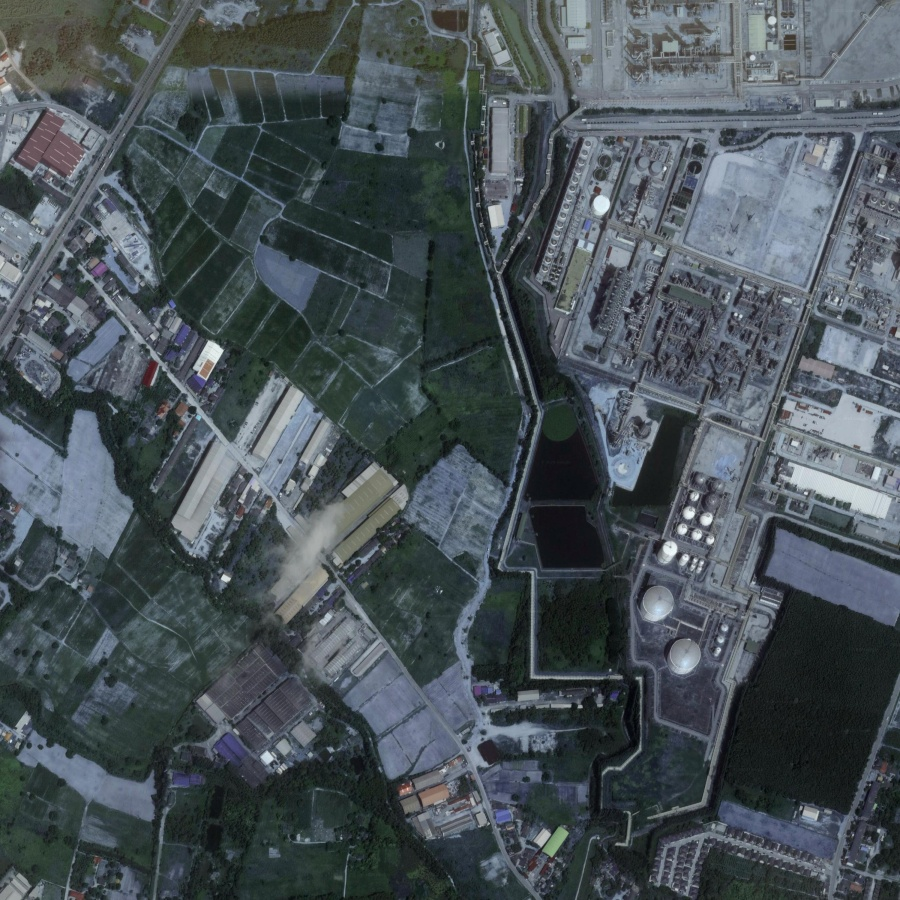PowerPlant: (550, 228, 802, 687)
